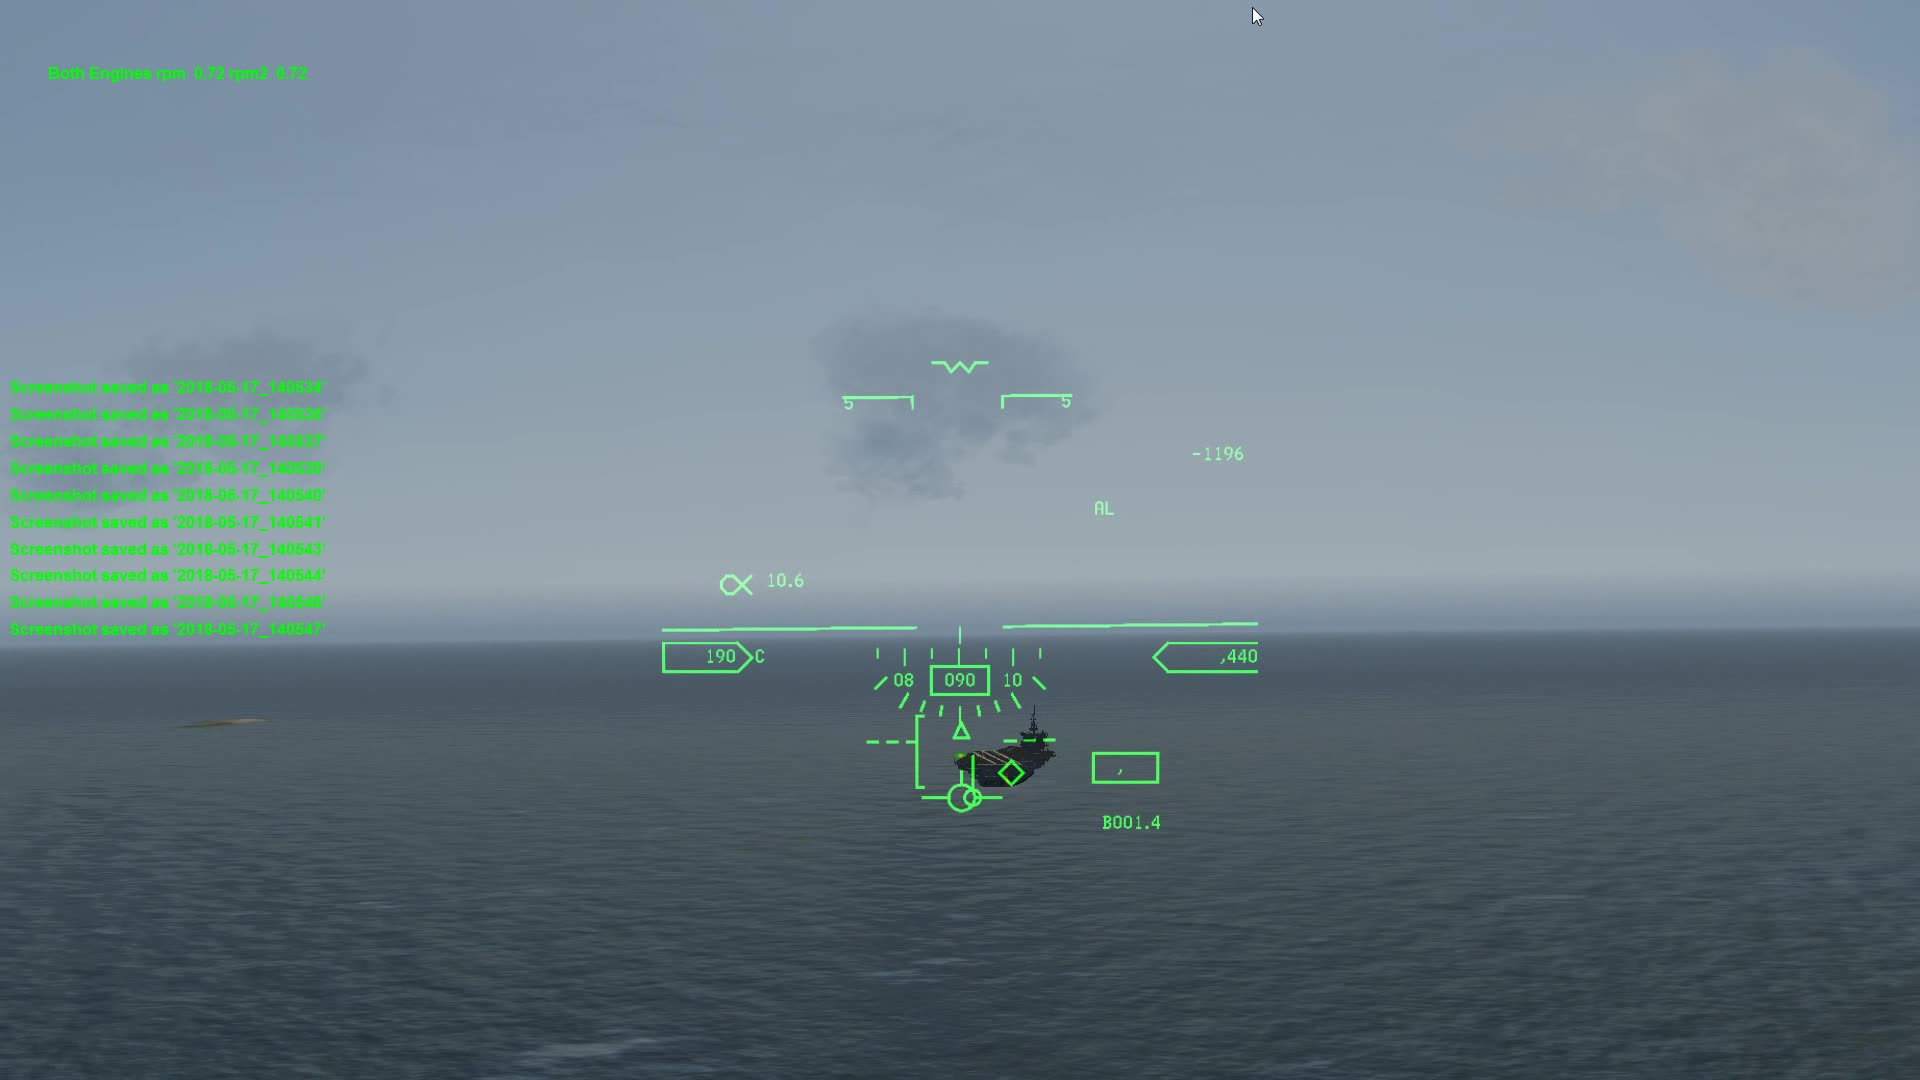speed vector: (927, 773, 998, 816)
